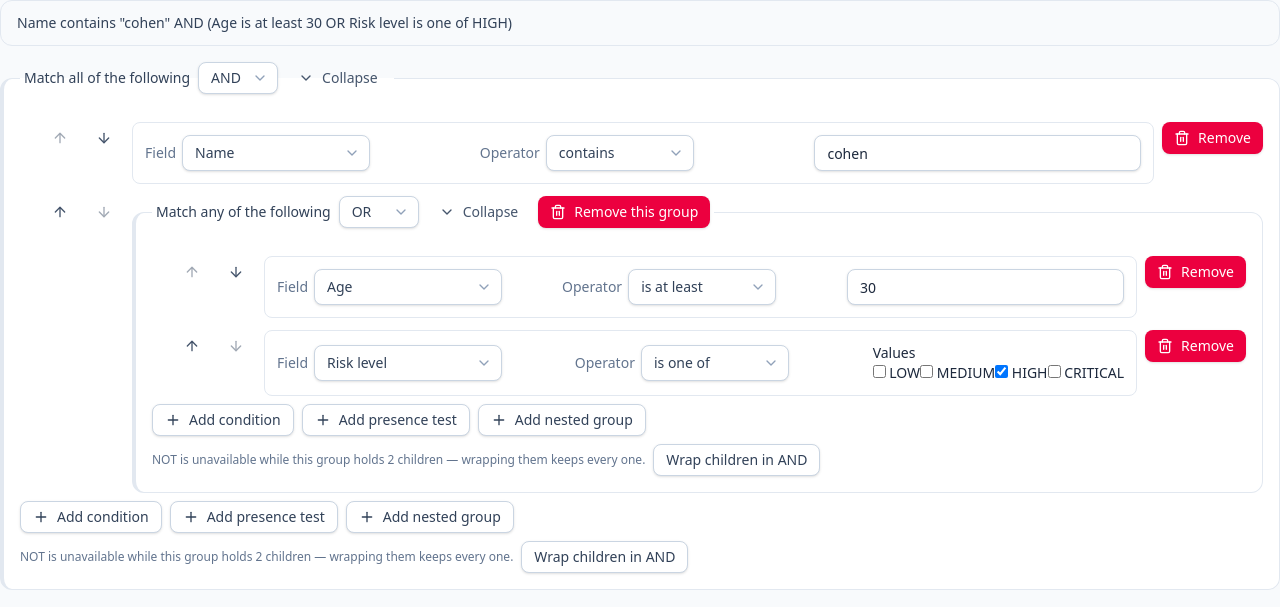
Test: RuleConditionEditor (US1) › reorders a child and updates the summary with it (US4, FR-005)
This screenshot has width=1280, height=607.
Check: the text named "What this rule checks" reads "Name contains \"cohen\" AND (Age is at least 30 OR Risk level is one of HIGH)", box [17,13,512,32]
Click the button named "move group 2 up": (60, 212) [40,196,80,228]
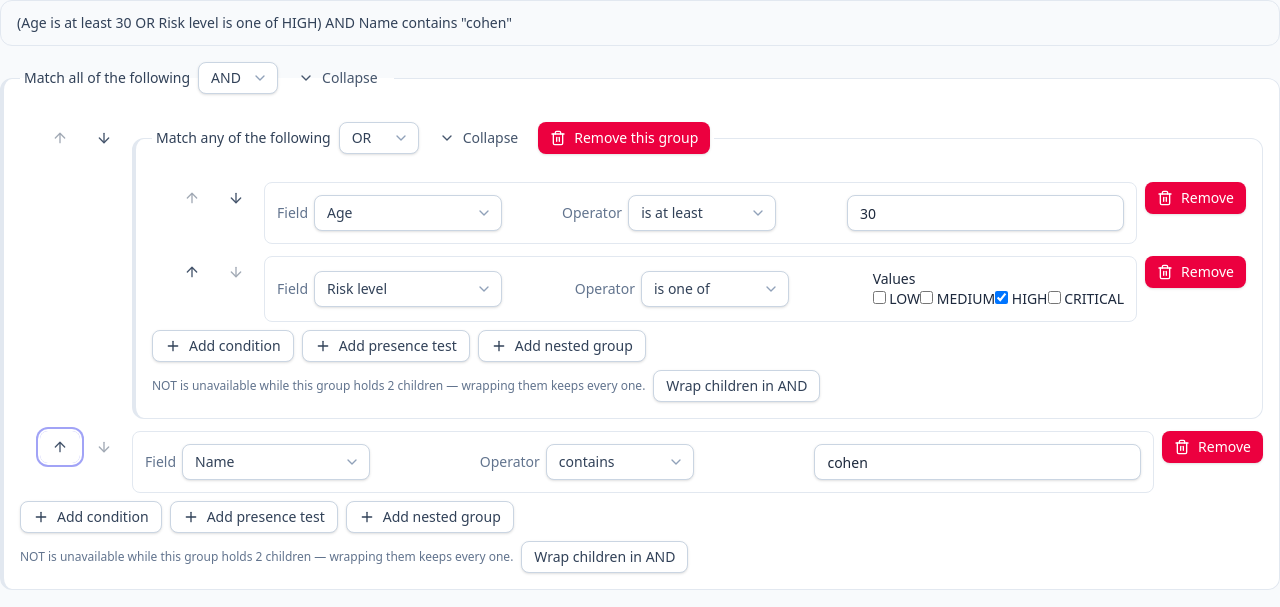
Check: the text named "What this rule checks" reads "(Age is at least 30 OR Risk level is one of HIGH) AND Name contains \"cohen\"", box [17,13,512,32]
